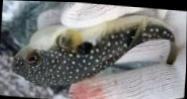fish: (13, 15, 177, 85)
